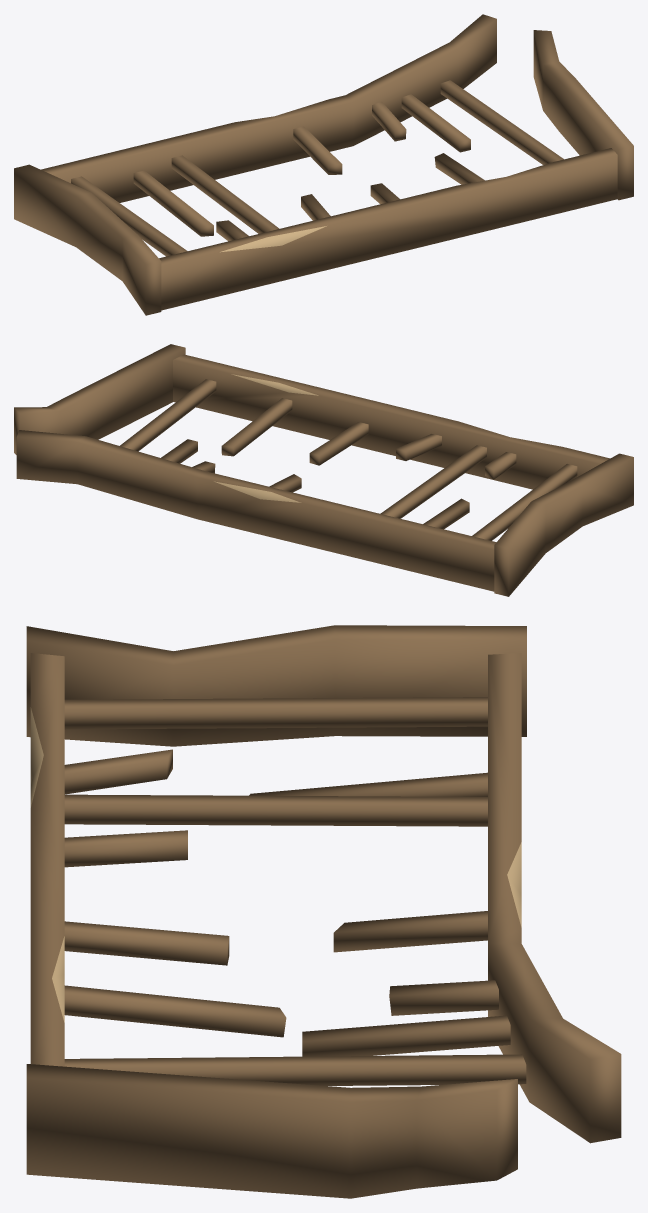
File: rpgpp_av_bed_02b.gltf
3 renders of one model, top to bottom at view 1: azimuth 30°, elevation 25°; view 2: azimuth 150°, elevation 25°; view 3: azimuth 270°, elevation 25°, orthographic. The views are drawn at different scales.
Parts seen in each view (by area): view 1: rpgpp_av_bed_02b; view 2: rpgpp_av_bed_02b; view 3: rpgpp_av_bed_02b.
Part boxes in pixels (x1=…): rpgpp_av_bed_02b: x1=14, y1=14, x2=633, y2=315; rpgpp_av_bed_02b: x1=14, y1=344, x2=633, y2=596; rpgpp_av_bed_02b: x1=26, y1=625, x2=621, y2=1198.
Size of the model in its own units: 0.0265 by 0.00318 by 0.0136.
1 material, 1 textured.
